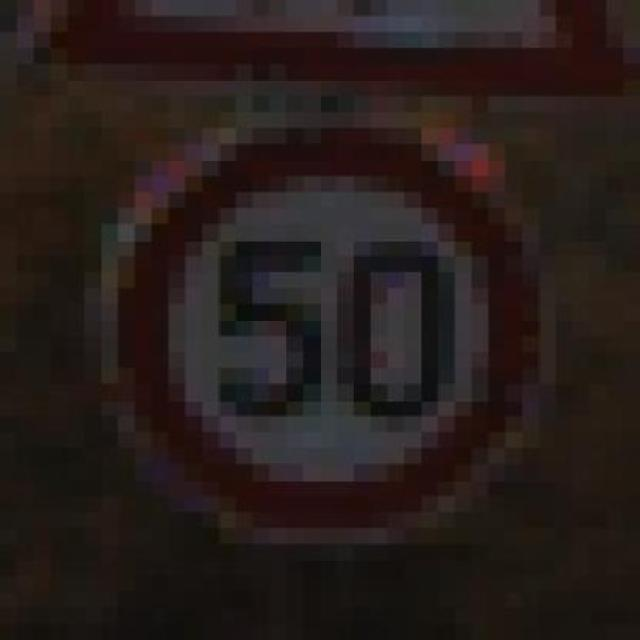forb_speed_over_50: (109, 127, 542, 538)
